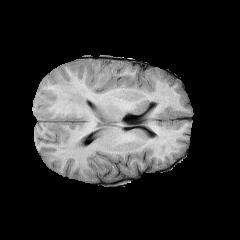glioma: (51, 71, 95, 161)
